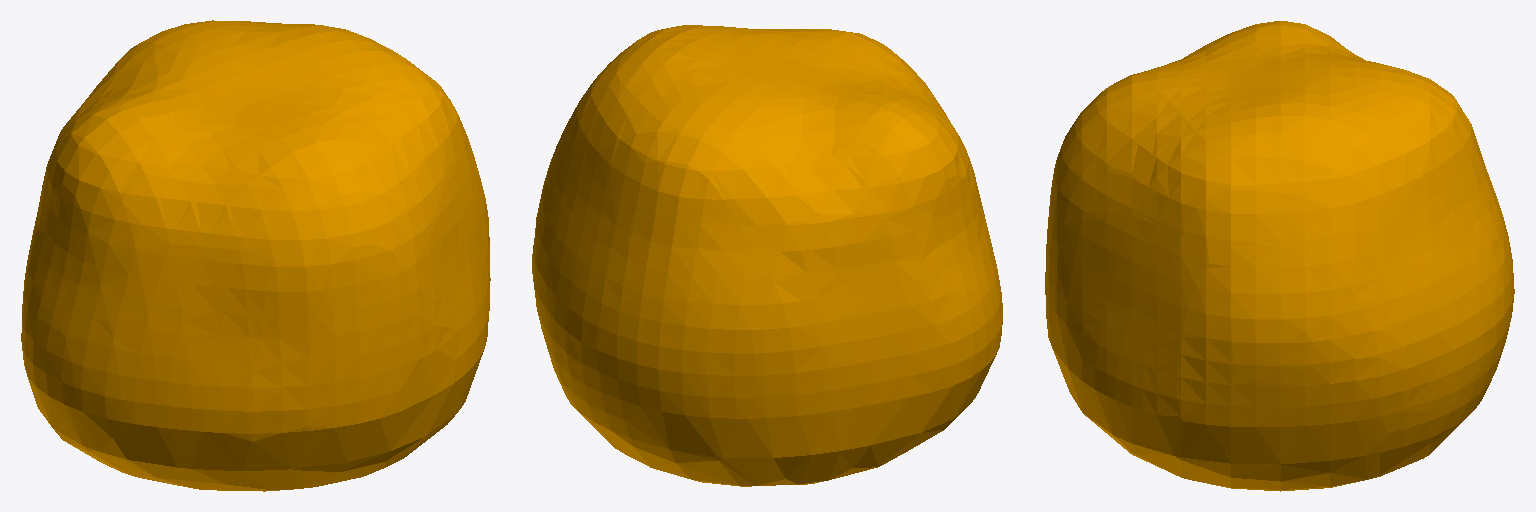
robot.urdf — cube:
<robot name="cube">
  <link name="cube_link">
    <inertial>
      <origin xyz="0 0 0" /> 
      <mass value="1.0" />
      <inertia  ixx="1.0" ixy="0.0"  ixz="0.0"  iyy="100.0"  iyz="0.0"  izz="1.0" />
    </inertial>
    <visual>
      <origin xyz="0 0 0"/>
      <geometry>
        <mesh filename="package://ycb_object_models/models/stl/cube.stl" />
      </geometry>
    </visual>
    <collision>
      <origin xyz="0 0 0"/>
      <geometry>
        <mesh filename="package://ycb_object_models/models/stl/cube.stl" />
      </geometry>
    </collision>
  </link>
  <gazebo reference="cube_link">
    <mu1>1</mu1>
    <mu2>1</mu2>
    <fdir1 value = "1 0 0"/>
    <material>Gazebo/Blue</material>
  </gazebo>
</robot>

--- Facts derived from the render (not from the file) ---
Views: 3 orthographic renders of the robot side by side, from view 1: azimuth 30°, elevation 25°; view 2: azimuth 150°, elevation 25°; view 3: azimuth 270°, elevation 25°.
Model cube with 1 links and 0 joints (none), rooted at cube_link, posed every joint at zero.
Visible links, largest first — view 1: cube_link; view 2: cube_link; view 3: cube_link.
Boxes of the visible links, x1=… form: cube_link: x1=21, y1=20, x2=490, y2=491; cube_link: x1=532, y1=25, x2=1002, y2=486; cube_link: x1=1045, y1=21, x2=1514, y2=491.
Size in the robot's own frame: 0.0352 by 0.0342 by 0.0313 metres.
Meshes: 1 distinct files referenced, 1 mesh visuals loaded (1 binary STL).